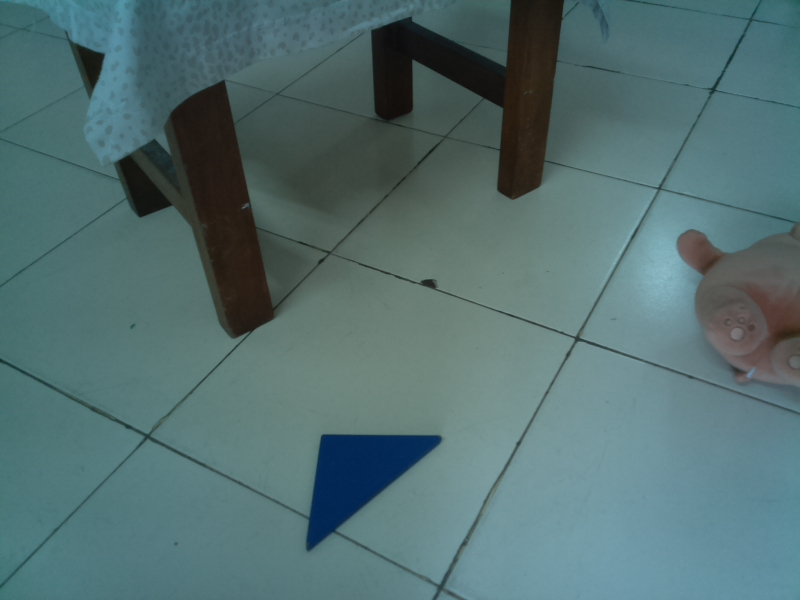Triangle: (305, 430, 444, 557)
